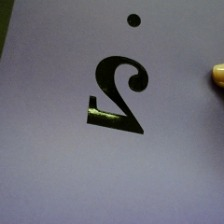violet2: (82, 12, 160, 144)
